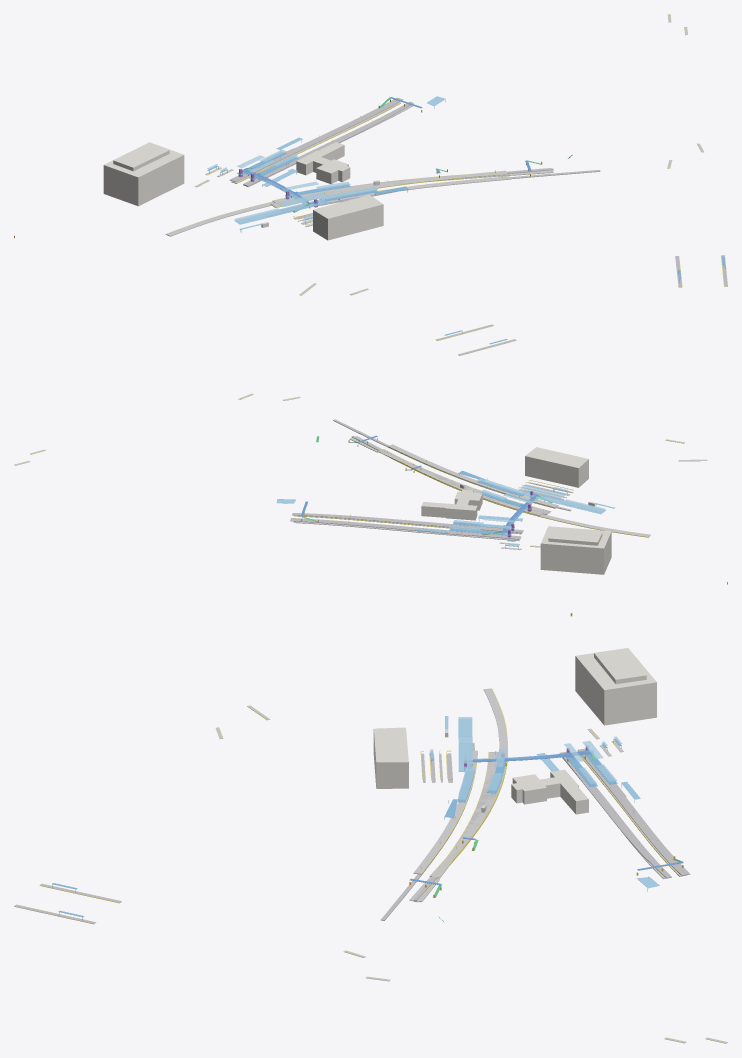
Rendered from wankdorf.glb.
3 views of the same model, one above another, from view 1: azimuth 30°, elevation 25°; view 2: azimuth 150°, elevation 25°; view 3: azimuth 270°, elevation 25° (orthographic). The views are drawn at different scales.
Visible parts, largest first — view 1: building_part@x, platform_body@0, platform_surface@0, roof@0, shelter@0, canopy@0, boarding_edge@0; view 2: building_part@x, platform_surface@0, platform_body@0, roof@0, boarding_edge@0, shelter@0, canopy@0; view 3: building_part@x, platform_surface@0, platform_body@0, roof@0, shelter@0, boarding_edge@0, canopy@0, passage@1.
Boxes of the visible parts, box(x1,y1,x2,y2) form: building_part@x: box(103, 142, 383, 240); platform_body@0: box(166, 14, 703, 295); platform_surface@0: box(230, 97, 727, 287); roof@0: box(207, 137, 377, 223); shelter@0: box(207, 152, 725, 281); canopy@0: box(234, 96, 445, 232); boarding_edge@0: box(165, 14, 724, 295); building_part@x: box(421, 447, 611, 574); platform_surface@0: box(290, 324, 573, 539); platform_body@0: box(14, 393, 707, 549); roof@0: box(416, 478, 605, 545); boarding_edge@0: box(14, 325, 706, 548); shelter@0: box(444, 330, 567, 548); canopy@0: box(276, 491, 615, 534); building_part@x: box(373, 648, 656, 814); platform_surface@0: box(14, 743, 690, 924); platform_body@0: box(216, 688, 727, 1043); roof@0: box(430, 717, 639, 799); shelter@0: box(52, 738, 621, 920); boarding_edge@0: box(17, 688, 725, 1043); canopy@0: box(445, 716, 659, 891); passage@1: box(409, 750, 682, 885).
Bounding box in the file's own units: 730 × 36.12 × 513.
